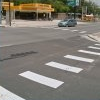crosswalk: (0, 42, 100, 100), (53, 27, 88, 33)
